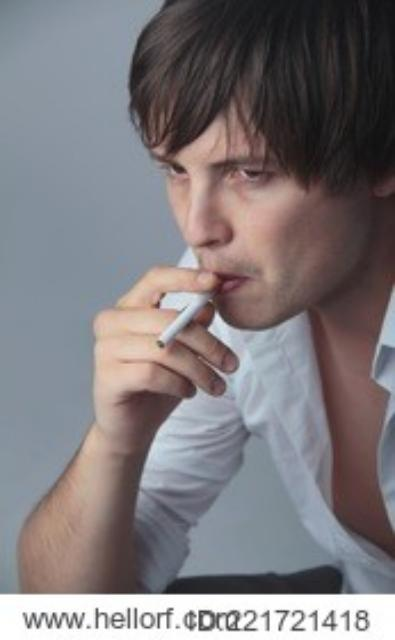SafeDriving: (216, 151, 282, 193)
Smoking: (156, 284, 228, 350)
